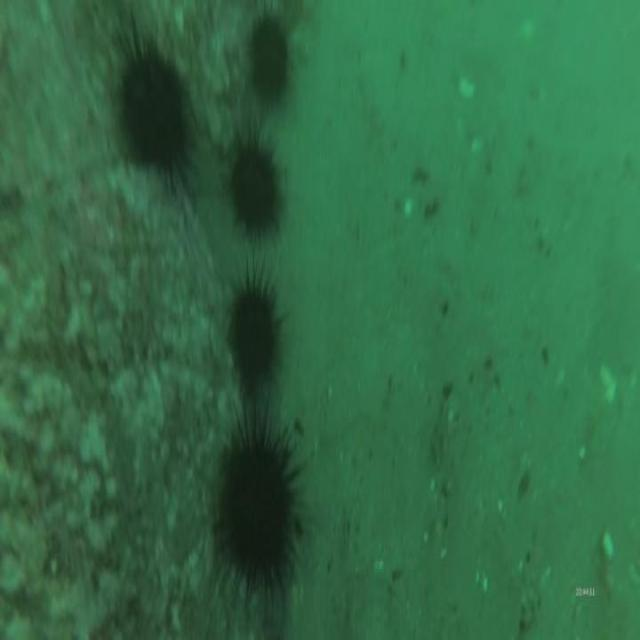echinus: (212, 416, 303, 599), (116, 40, 196, 180), (226, 270, 284, 397), (228, 136, 282, 240), (248, 19, 288, 111)
